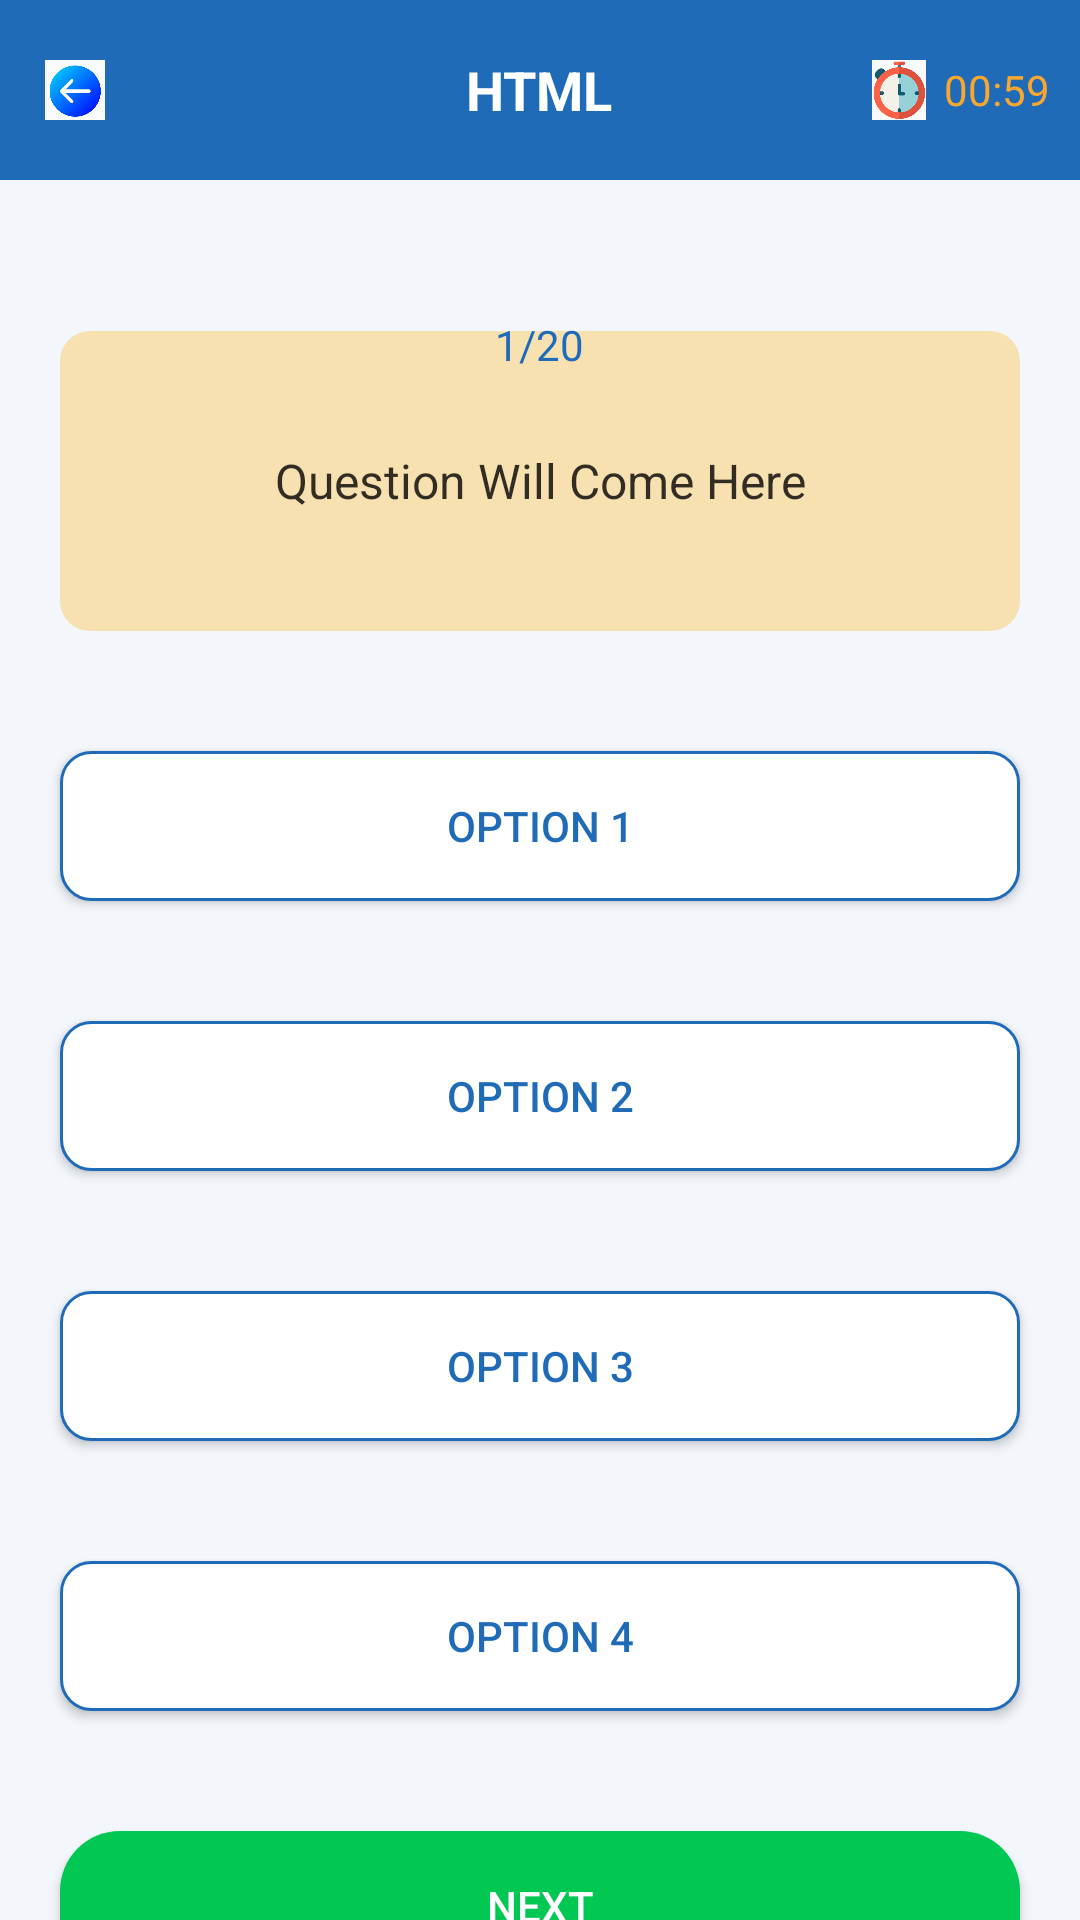

Where icons sit on this 1080×1920 app screen, as (x1, y1, x2, y2):
back: (45, 60, 105, 120)
timer: (872, 60, 926, 120)
